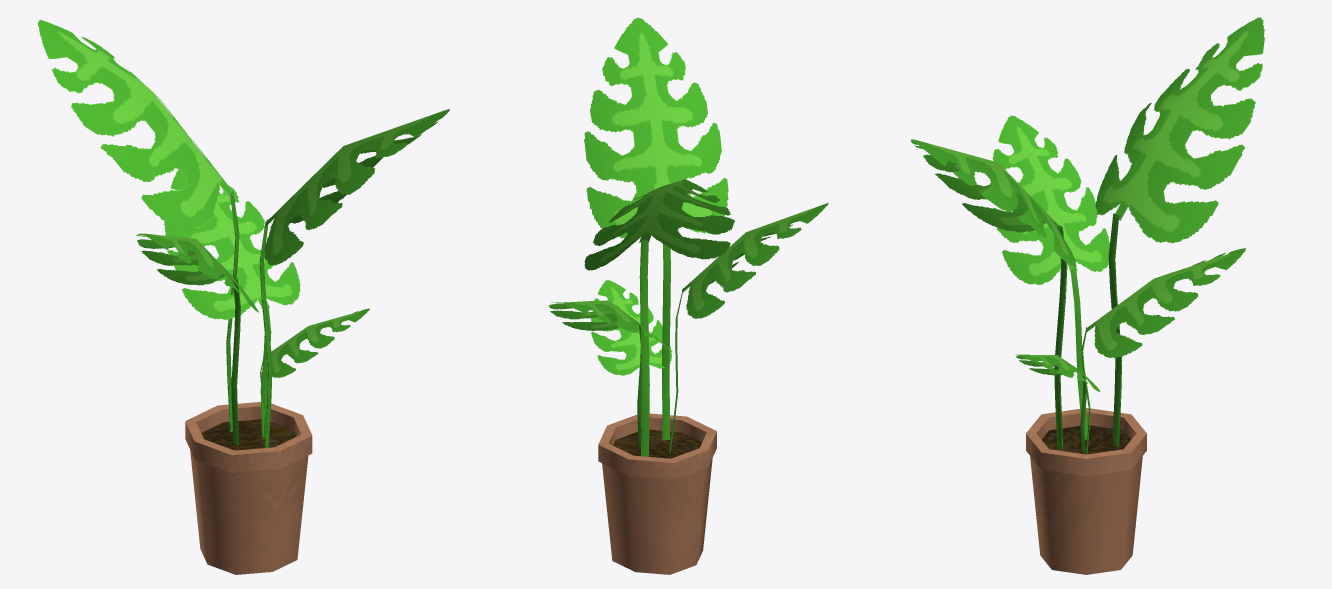
Rendered from Blender_PotPlant.fbx.
3 renders of one model, left to right at view 1: azimuth 30°, elevation 25°; view 2: azimuth 150°, elevation 25°; view 3: azimuth 270°, elevation 25°, orthographic. The views are drawn at different scales.
Visible parts, largest first — view 1: pPlane8; view 2: pPlane8; view 3: pPlane8.
Boxes of the visible parts, bbox=[...] form: pPlane8: bbox=[37, 19, 450, 574]; pPlane8: bbox=[549, 17, 828, 574]; pPlane8: bbox=[910, 17, 1264, 574].
Size of the model in its own units: 337 by 470 by 401.
